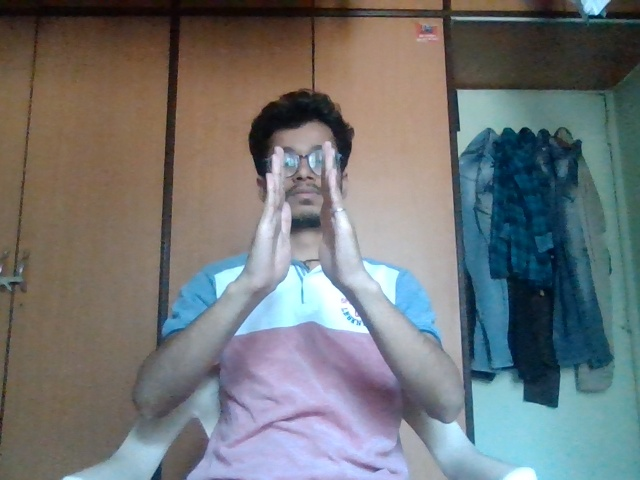morning: (251, 137, 369, 280)
